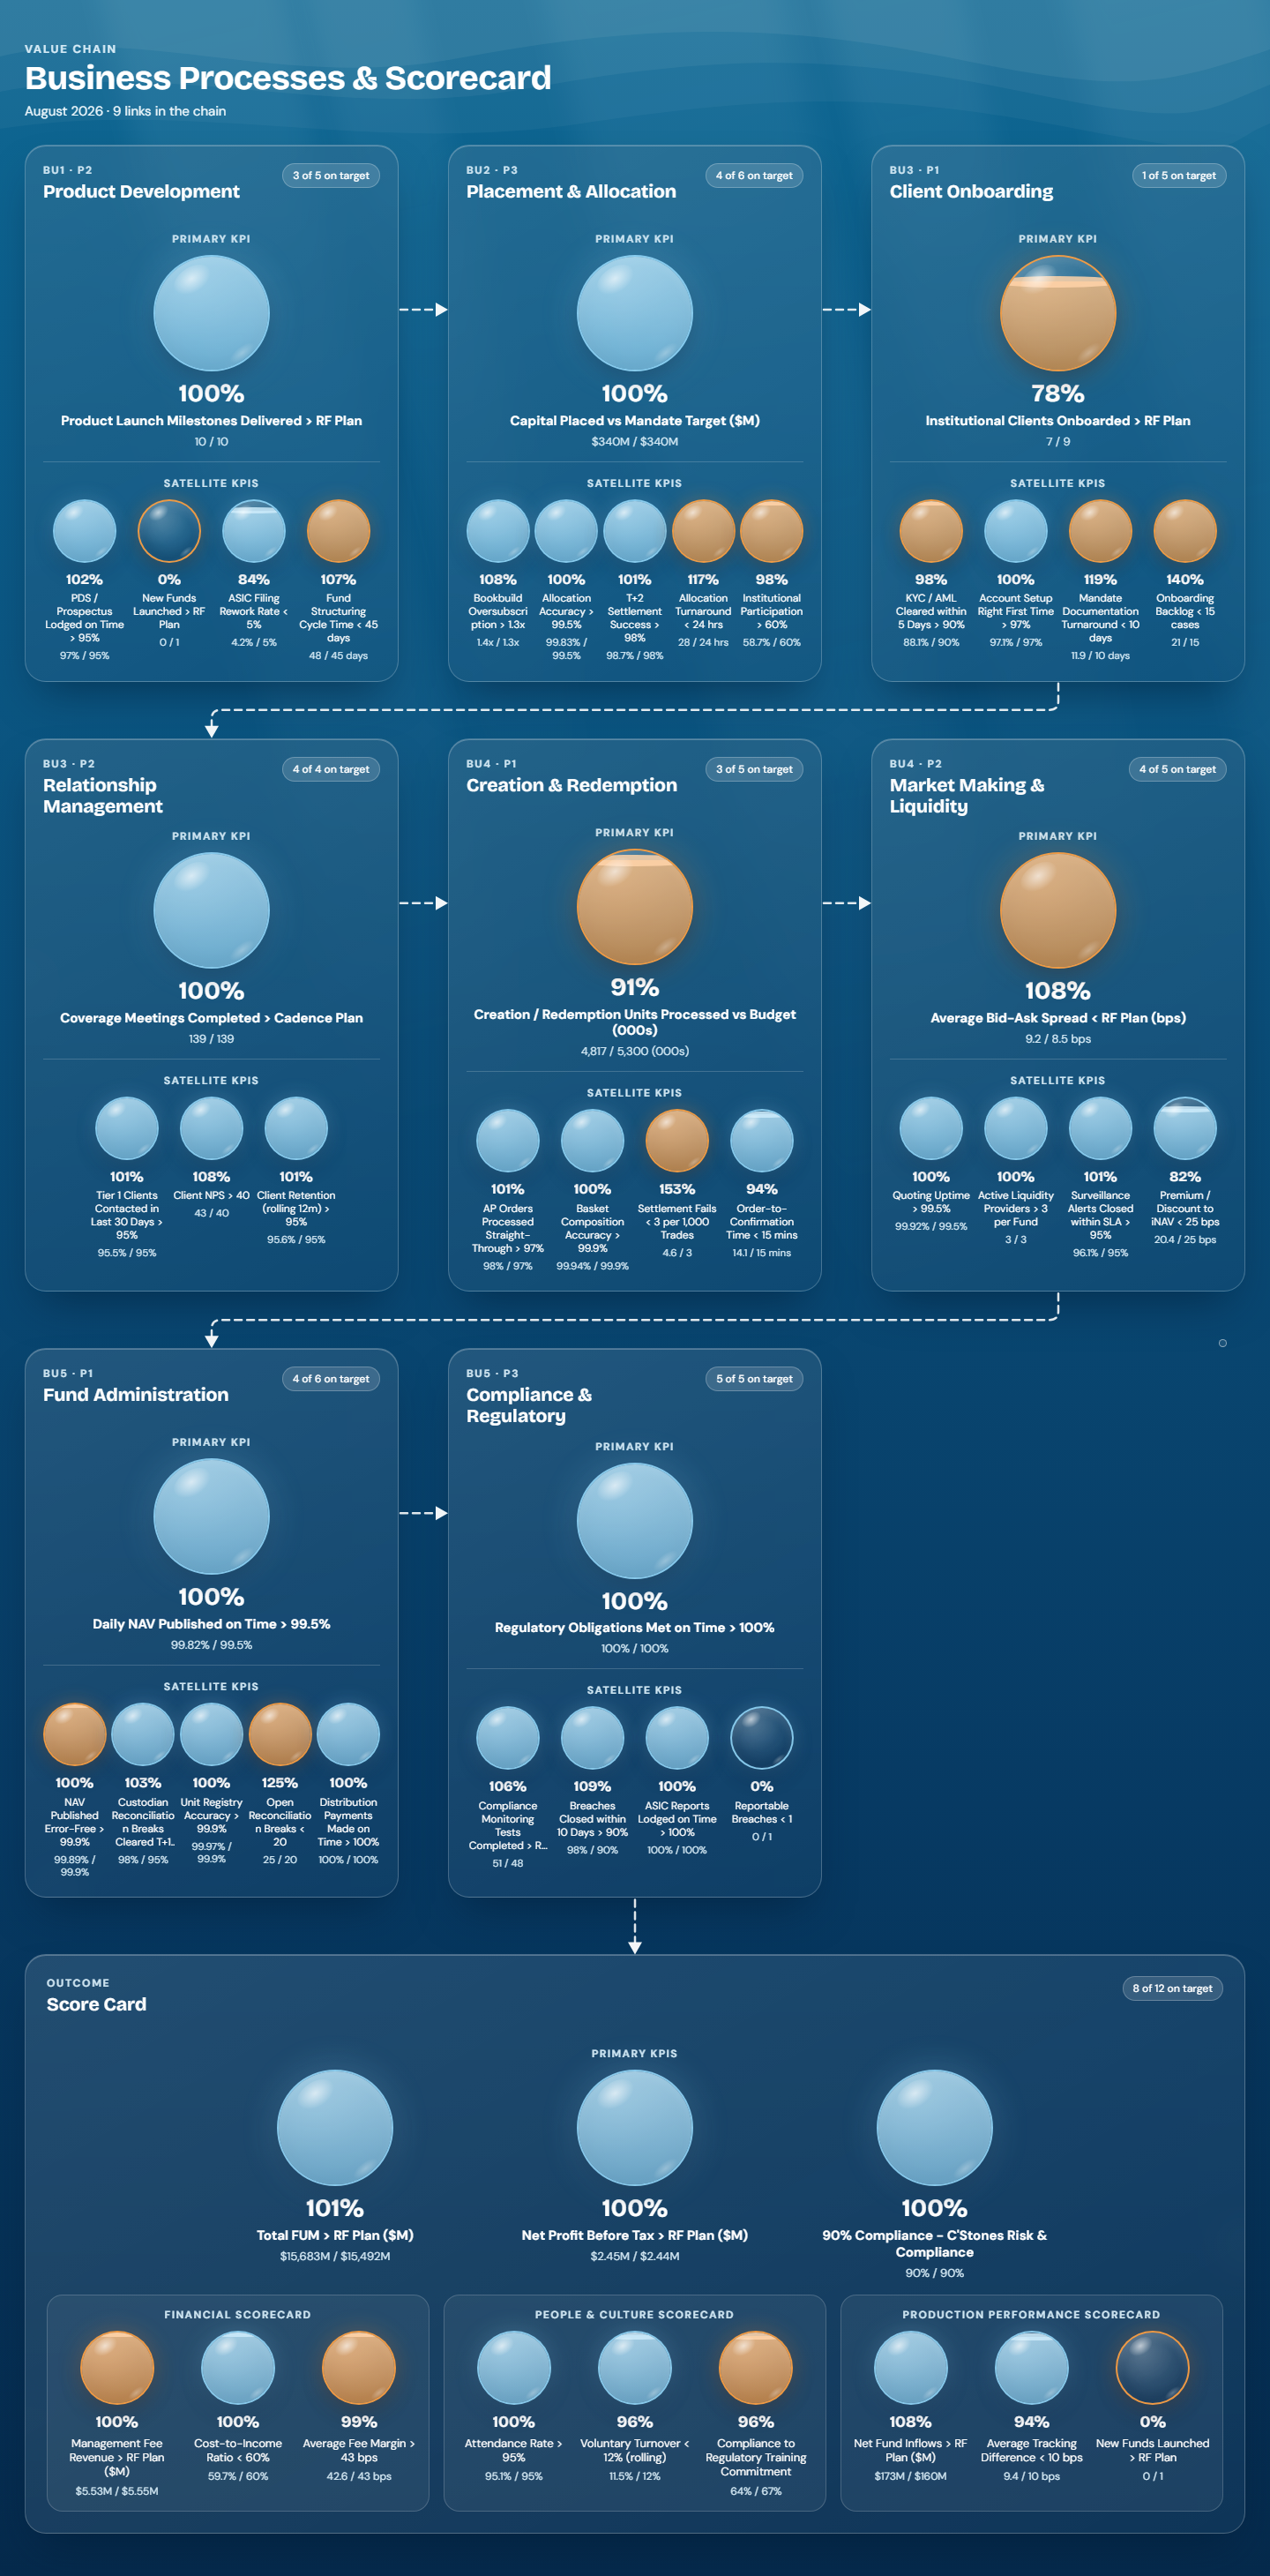

Layout of this report page (visuals, bound fields, positions):
{"tool":"powerbi","page":{"name":"Page 1","canvas":[1920,1080],"ordinal":0},"visuals":[{"type":"valueChainVisualiserE2BF44FFB3A34F0CB6D06A2CB79AE14B","fields":{"node":["Query1.node"],"nodeOrder":["Query1.nodeOrder"],"group":["Query1.group"],"subGroup":["Query1.subGroup"],"metric":["Query1.metric"],"operator":["Query1.operator"],"valueType":["Query1.valueType"],"symbol":["Query1.symbol"],"year":["Query1.year"],"period":["Query1.period"],"actual":["Sum(Query1.actual)"],"budget":["Sum(Query1.budget)"]},"box":[10.6,72.4,1768.1,1006.3],"z":0},{"type":"slicer","fields":{"Values":["Query1.year"]},"box":[911.2,16.6,247.4,55.8],"z":1},{"type":"slicer","fields":{"Values":["Query1.period"]},"box":[1169.2,16.6,274.6,55.8],"z":2}]}

Visuals, with their boxes on the page's 1920x1080 design canvas (x1, y1, x2, y2). These are canvas units, not pixel positions in the 1270x2576 screenshot, which may show the page scaled, cropped or inside an application window:
valueChainVisualiserE2BF44FFB3A34F0CB6D06A2CB79AE14B - Query1.node x Query1.nodeOrder: bbox(11, 72, 1779, 1079)
slicer - Query1.year: bbox(911, 17, 1159, 72)
slicer - Query1.period: bbox(1169, 17, 1444, 72)
